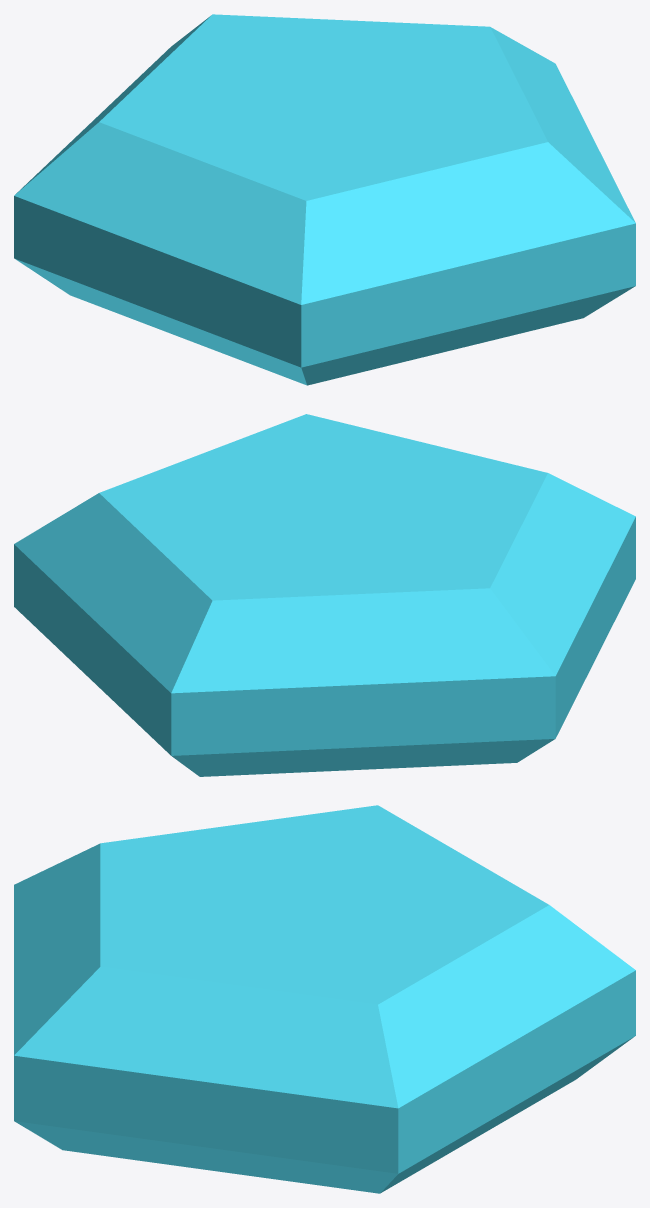
File: Jem_07.fbx
3 renders of one model, top to bottom at view 1: azimuth 30°, elevation 25°; view 2: azimuth 150°, elevation 25°; view 3: azimuth 270°, elevation 25°, orthographic. The views are drawn at different scales.
Parts seen in each view (by area): view 1: Jem_07; view 2: Jem_07; view 3: Jem_07.
Part boxes in pixels (x1,y1,x2,y2): Jem_07: (14, 14, 635, 385); Jem_07: (14, 414, 635, 776); Jem_07: (14, 805, 635, 1193).
Bounding box in the file's own units: 38.04 × 11.21 × 36.18.
